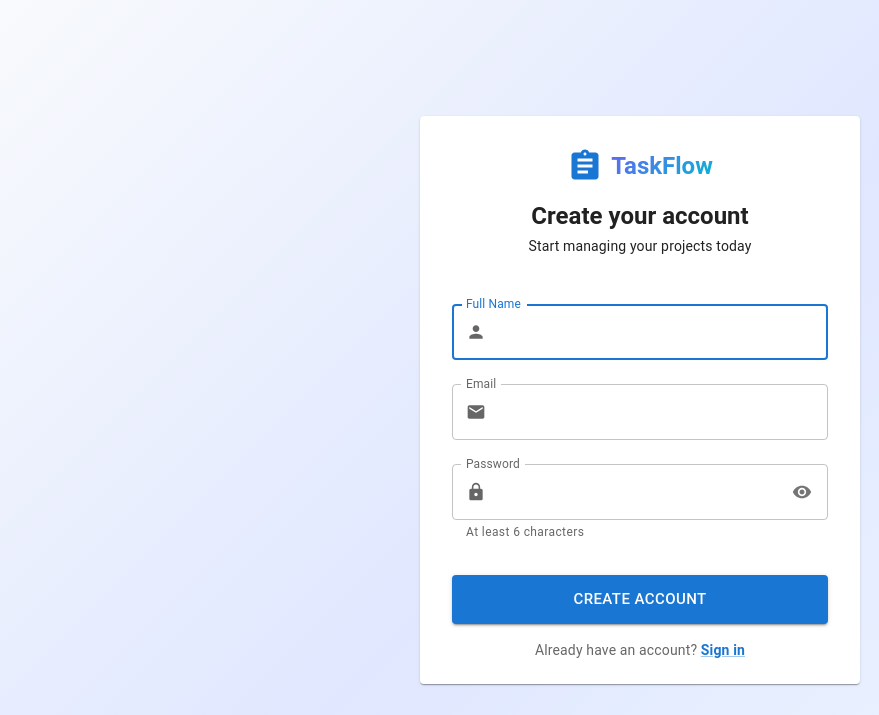
it: RegisterForm › shows error for invalid email format
The image size is (879, 715).
Step 1. Type "Test" into the field labelled "Full Name" → x=661, y=332, box [494, 304, 828, 360]
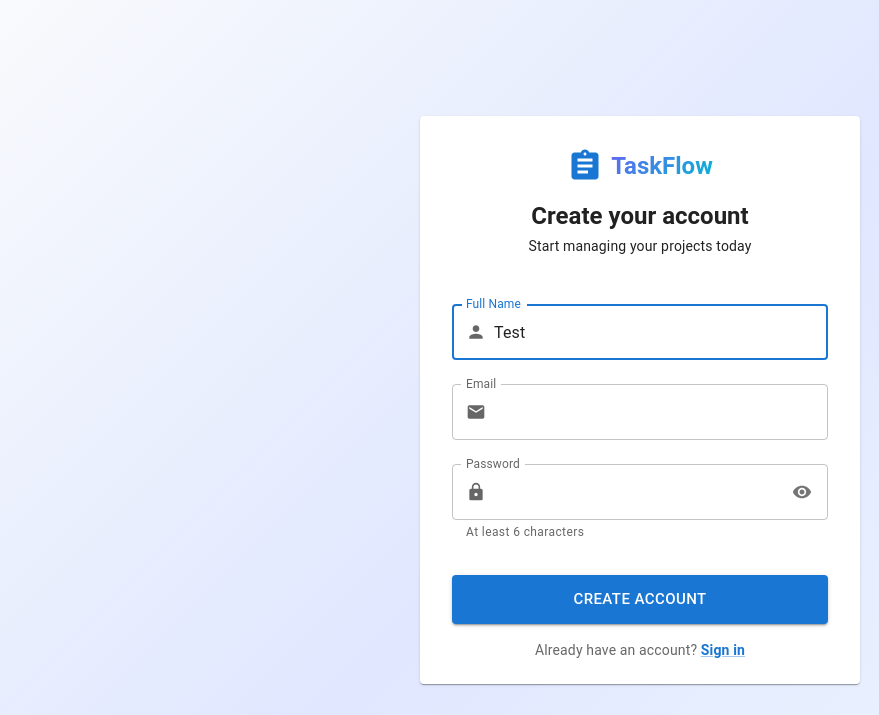
Step 2. Type "invalid" into the field labelled "Email" → x=661, y=412, box [494, 384, 828, 440]
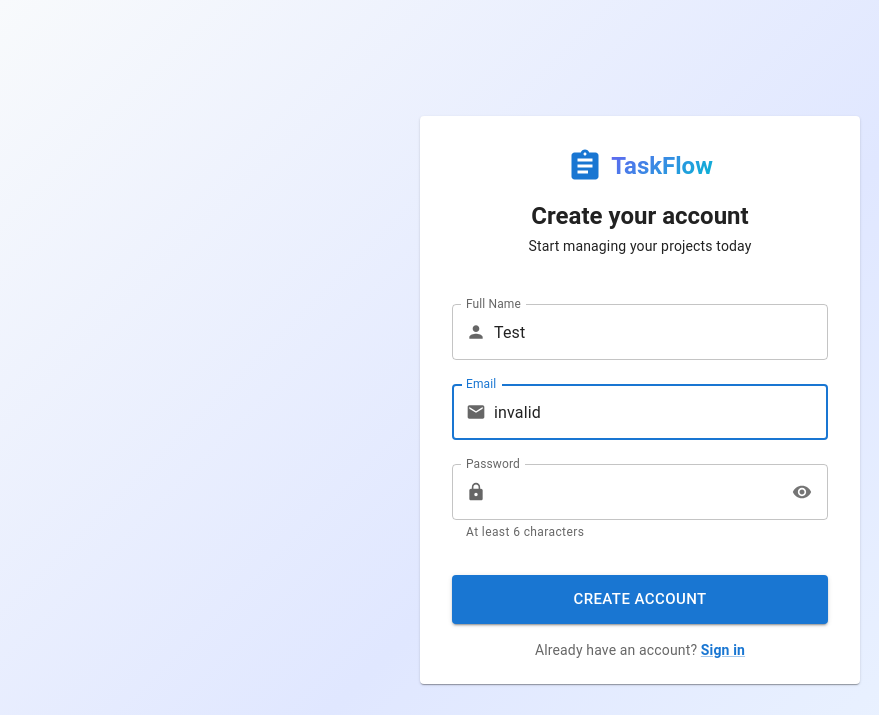
Step 3. Type "password123" into the password field labelled "Password" → x=636, y=492, box [494, 464, 779, 520]
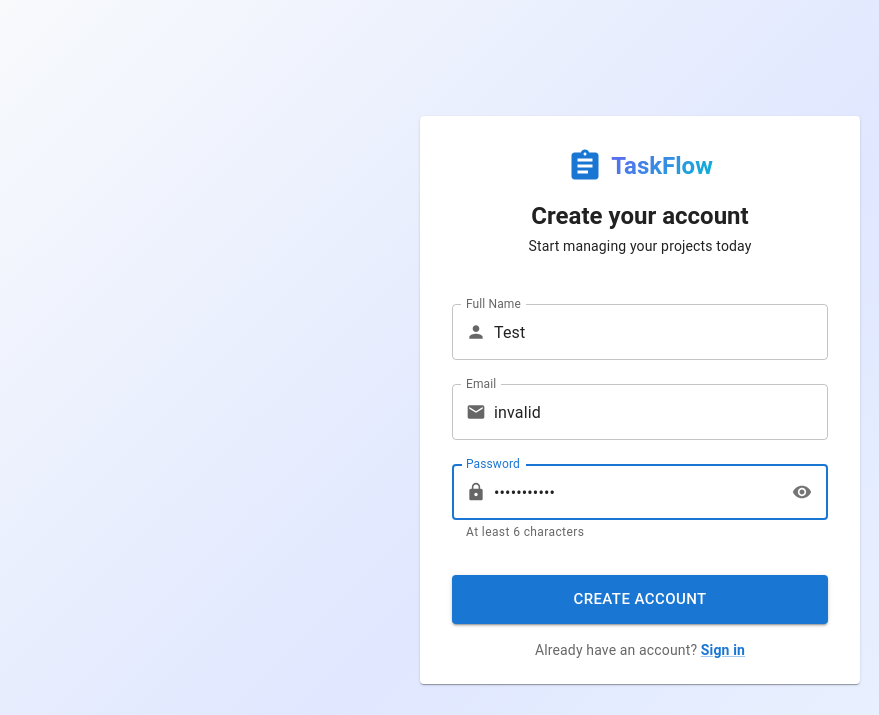
Step 4. Click the button "Create Account" → x=640, y=599, box [452, 575, 828, 624]
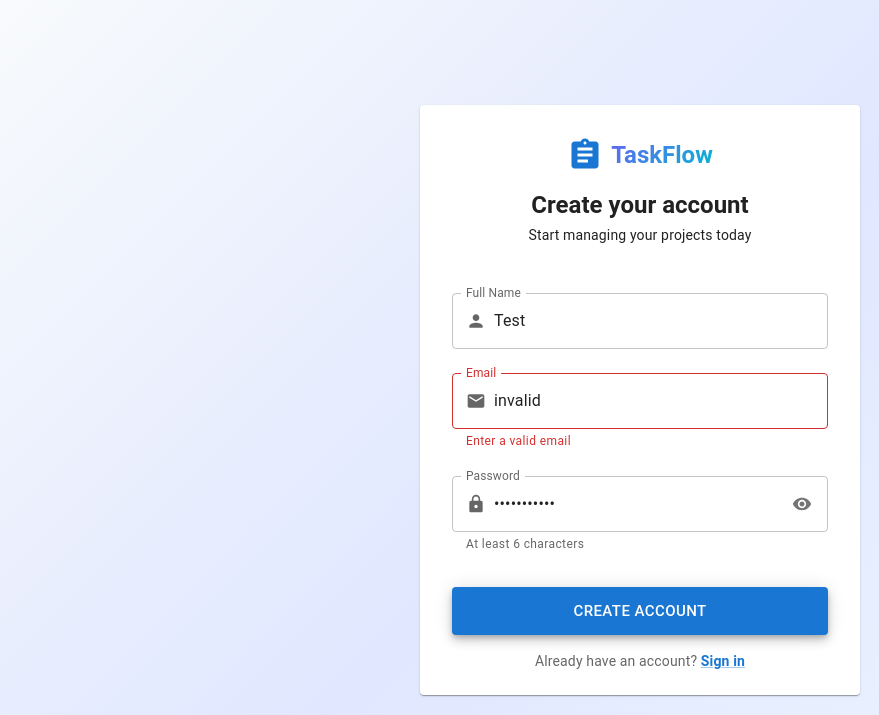
Now the text "Enter a valid email" is shown, box [466, 434, 571, 448]
